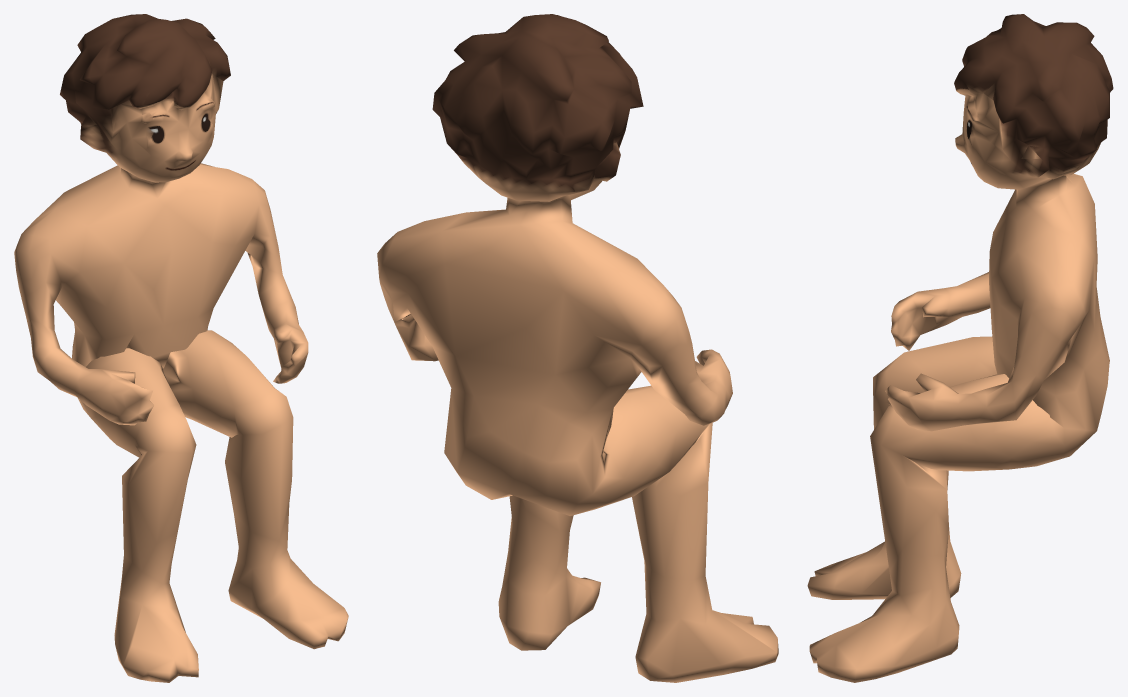
Rendered from npc_seated.glb.
3 views of the same model, side by side, from view 1: azimuth 30°, elevation 25°; view 2: azimuth 150°, elevation 25°; view 3: azimuth 270°, elevation 25° (orthographic). The views are drawn at different scales.
Parts seen in each view (by area): view 1: npc_seated_body; view 2: npc_seated_body; view 3: npc_seated_body.
Part boxes in pixels (x1,y1,x2,y2): npc_seated_body: (14,14,348,682); npc_seated_body: (377,14,778,682); npc_seated_body: (807,14,1113,682).
Size of the model in its own units: 0.6654 by 1.42 by 0.6497.
1 material, 1 textured.
